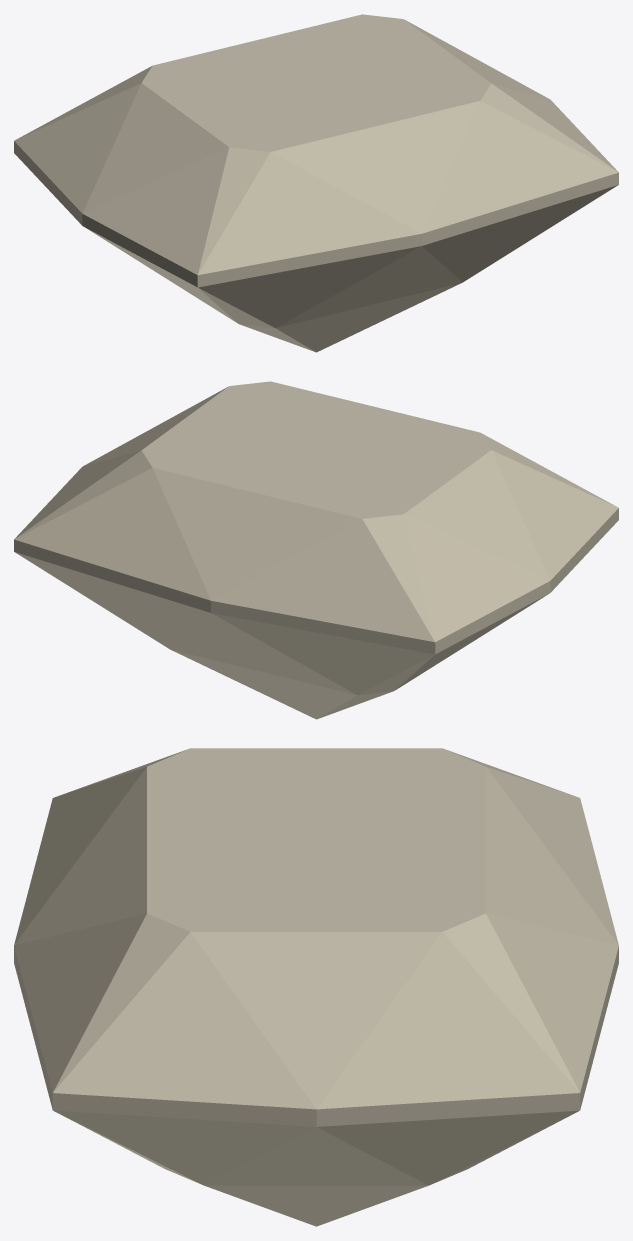
The model's file is andalusite.glb.
3 views of the same model, one above another, from view 1: azimuth 30°, elevation 25°; view 2: azimuth 150°, elevation 25°; view 3: azimuth 270°, elevation 25° (orthographic). The views are drawn at different scales.
Parts seen in each view (by area): view 1: andalusite; view 2: andalusite; view 3: andalusite.
Part boxes in pixels (bbox=[...]): andalusite: bbox=[14, 14, 618, 352]; andalusite: bbox=[14, 381, 618, 719]; andalusite: bbox=[14, 748, 618, 1226].
Bounding box in the file's own units: 0.25 × 0.1375 × 0.195.
